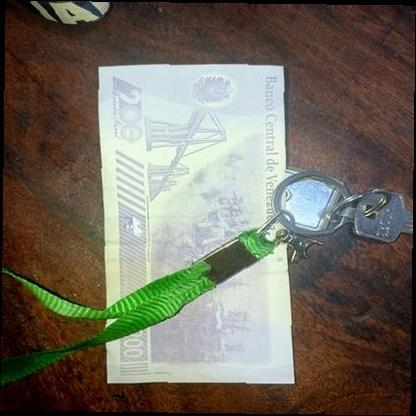two_hundred-back-vef: (97, 64, 295, 384)
